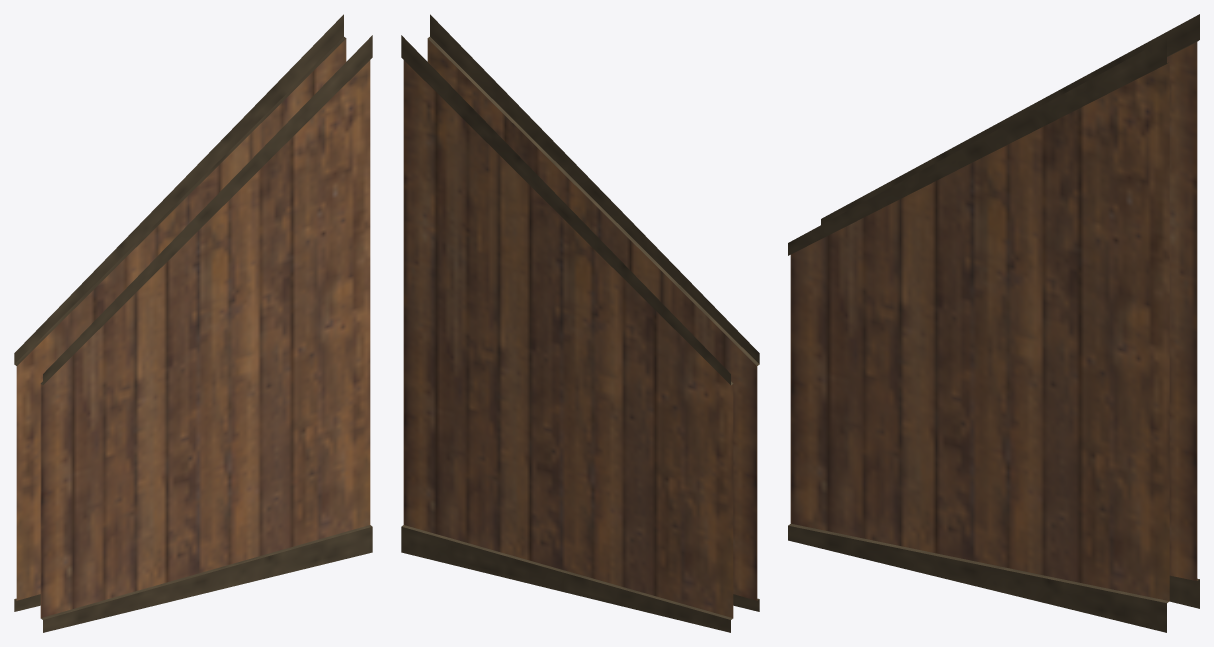
File: MS_3to6HeightPiece.fbx
The picture shows the model from 3 angles, left to right: view 1: azimuth 30°, elevation 25°; view 2: azimuth 150°, elevation 25°; view 3: azimuth 330°, elevation 25°; orthographic projection. The views are drawn at different scales.
Visible parts, largest first — view 1: Cube; view 2: Cube; view 3: Cube.
Part boxes in pixels (box(x1,y1,x2,y2)): Cube: box(14, 14, 372, 632); Cube: box(401, 14, 759, 632); Cube: box(788, 14, 1199, 632).
Bounding box in the file's own units: 400 × 600 × 60.
